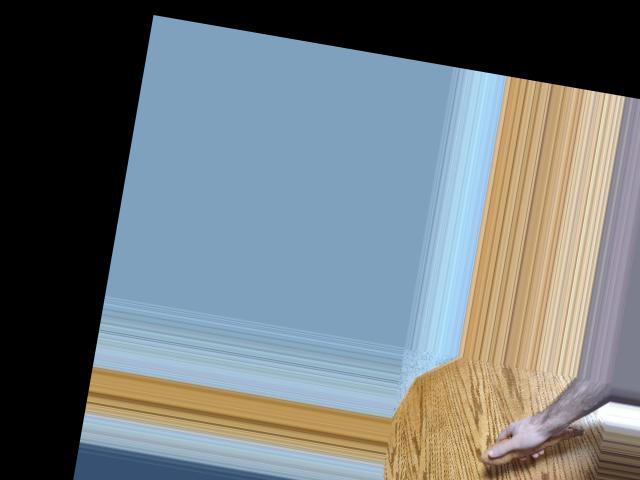sweet_potato: (484, 408, 587, 478)
